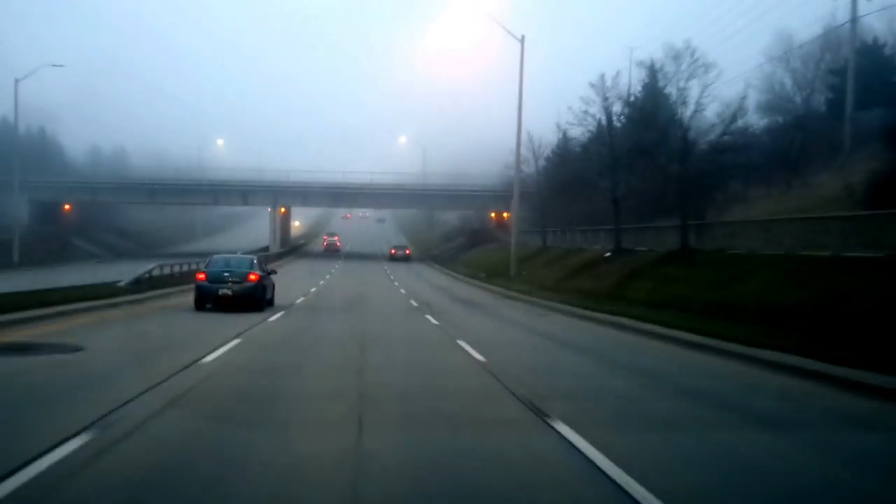car: (191, 254, 278, 312), (387, 244, 413, 262), (322, 237, 342, 252), (322, 230, 340, 244), (375, 215, 388, 224), (340, 211, 352, 220), (358, 209, 370, 218)
